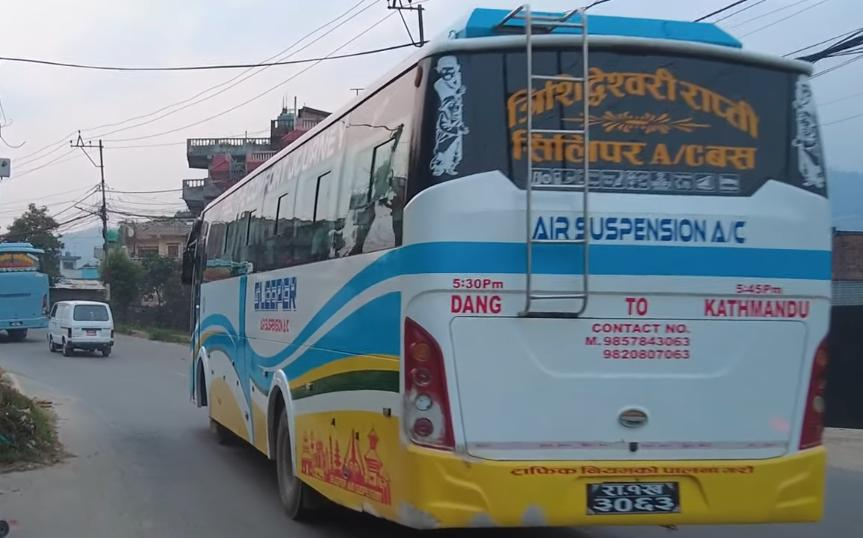bus: (180, 8, 838, 538)
